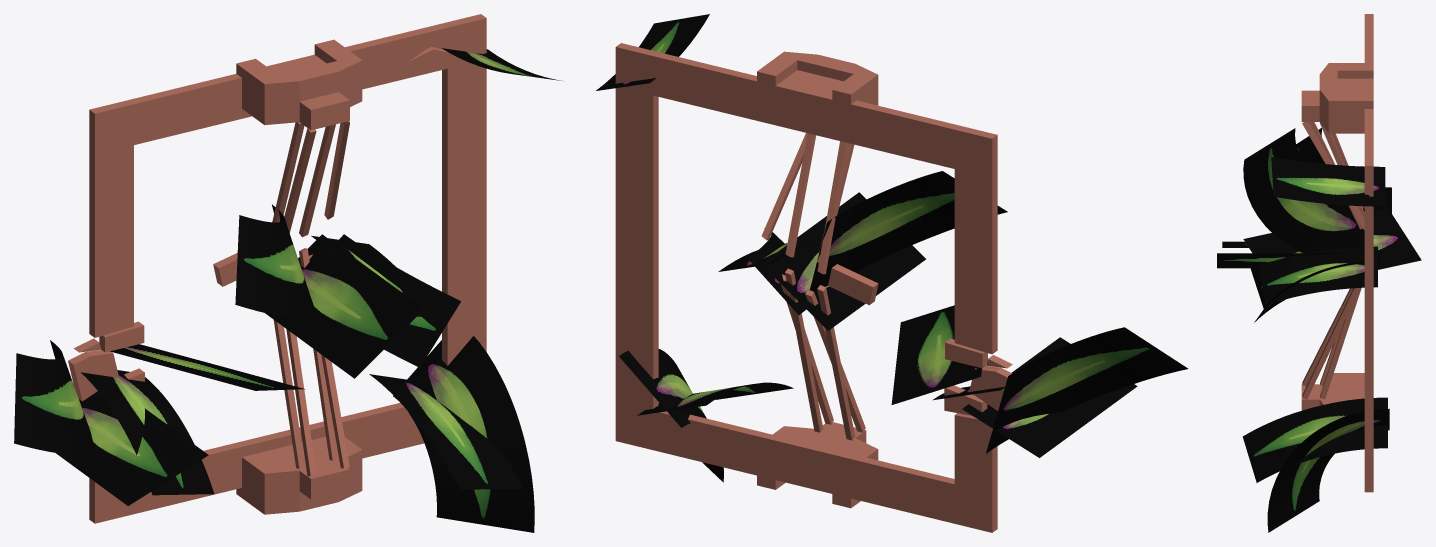
File: MineHealed.obj
3 renders of one model, left to right at view 1: azimuth 30°, elevation 25°; view 2: azimuth 150°, elevation 25°; view 3: azimuth 270°, elevation 25°, orthographic. The views are drawn at different scales.
Bounding box in the file's own units: 2.12 × 1.75 × 0.8528.
2 materials, 1 textured.
